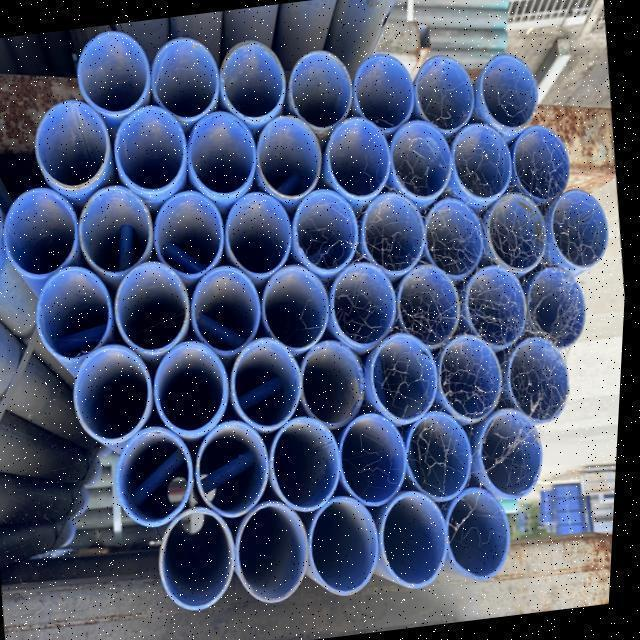pipe: (234, 500, 318, 602), (113, 424, 196, 527), (160, 503, 241, 608), (27, 263, 114, 359), (75, 343, 156, 443), (312, 493, 386, 594), (439, 481, 518, 575), (116, 258, 194, 351), (273, 413, 345, 512), (339, 409, 413, 505), (385, 486, 454, 588), (155, 341, 230, 434), (5, 182, 80, 275), (154, 187, 233, 275), (369, 332, 445, 423), (200, 419, 271, 516), (80, 185, 154, 275), (235, 335, 306, 428), (116, 103, 189, 193), (194, 262, 267, 349), (38, 98, 111, 185), (393, 256, 462, 347), (76, 27, 149, 113), (481, 405, 549, 497), (286, 186, 358, 272), (263, 260, 333, 347), (303, 339, 371, 428), (440, 333, 507, 423), (225, 186, 292, 275), (409, 409, 476, 497), (329, 260, 400, 343), (189, 109, 259, 193), (510, 334, 575, 423), (327, 113, 393, 199), (151, 35, 221, 116), (254, 113, 321, 197), (287, 47, 356, 127), (220, 36, 288, 116), (389, 115, 454, 198), (361, 191, 425, 273), (470, 260, 531, 345), (453, 119, 516, 200), (488, 189, 549, 272), (425, 196, 487, 277), (352, 51, 414, 132), (412, 53, 476, 131), (551, 184, 609, 270), (530, 265, 590, 347), (513, 120, 571, 201), (479, 50, 539, 127)
